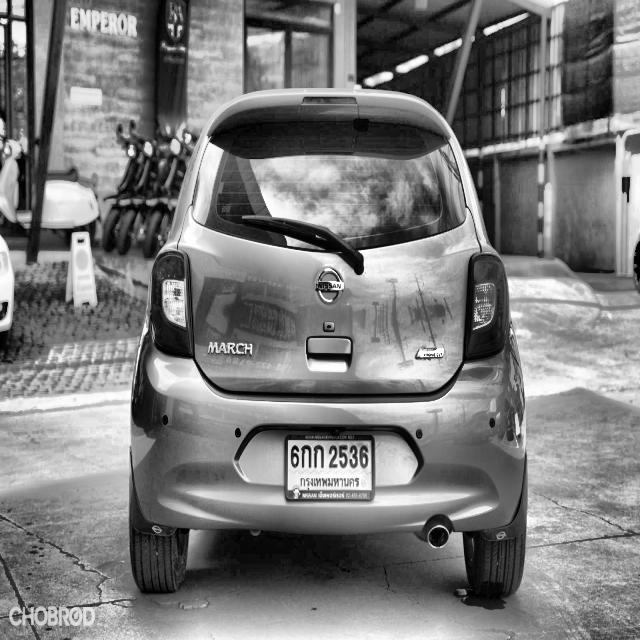license-plate: (282, 425, 378, 507)
